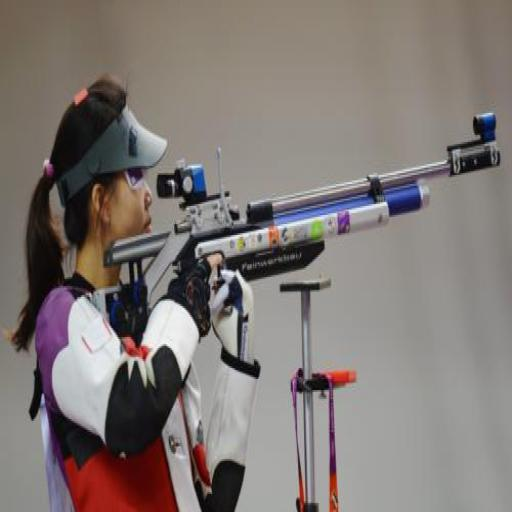shooting: (12, 75, 232, 510)
